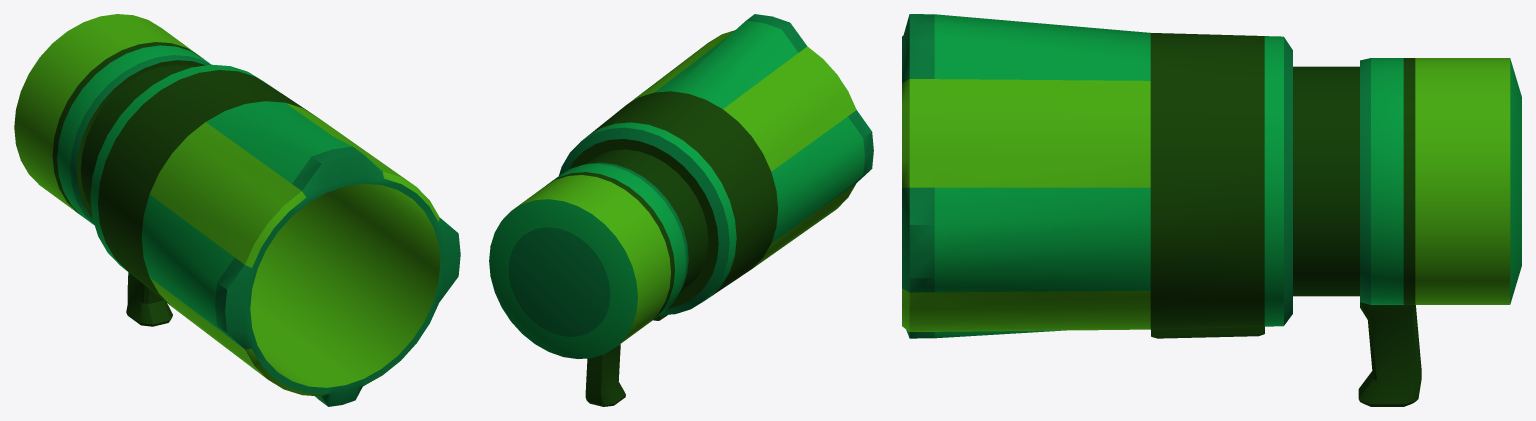
Rendered from TGun.fbx.
3 renders of one model, left to right at view 1: azimuth 30°, elevation 25°; view 2: azimuth 150°, elevation 25°; view 3: azimuth 270°, elevation 25°, orthographic. The views are drawn at different scales.
Parts seen in each view (by area): view 1: Cylinder; view 2: Cylinder; view 3: Cylinder.
Part boxes in pixels (x1,y1,x2,y2): Cylinder: (14,14,460,406); Cylinder: (489,14,873,406); Cylinder: (902,14,1521,406).
Bounding box in the file's own units: 251 × 306 × 460.
